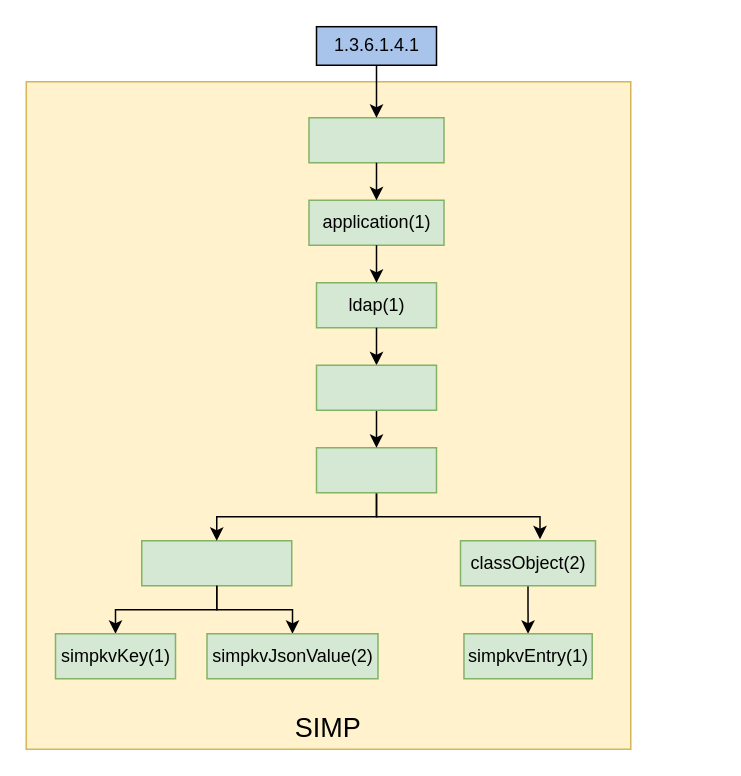
Some shapes in this 741 by 776 pixel diagram are drawn without their labels. The centre of each missing label's shape, as x and y in pixels:
attributeType(1): point (216, 562)
puppet(1): point (375, 387)
SIMP(47012): point (376, 139)
simpkv(1): point (375, 469)
